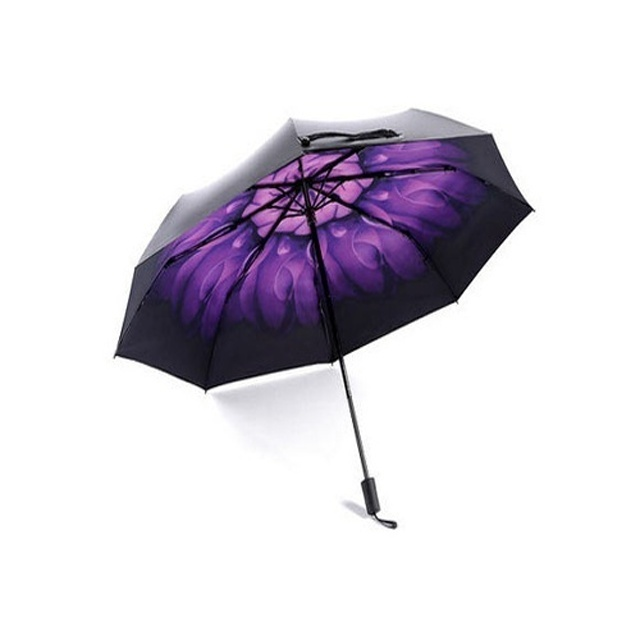umbrella: (109, 100, 539, 520)
